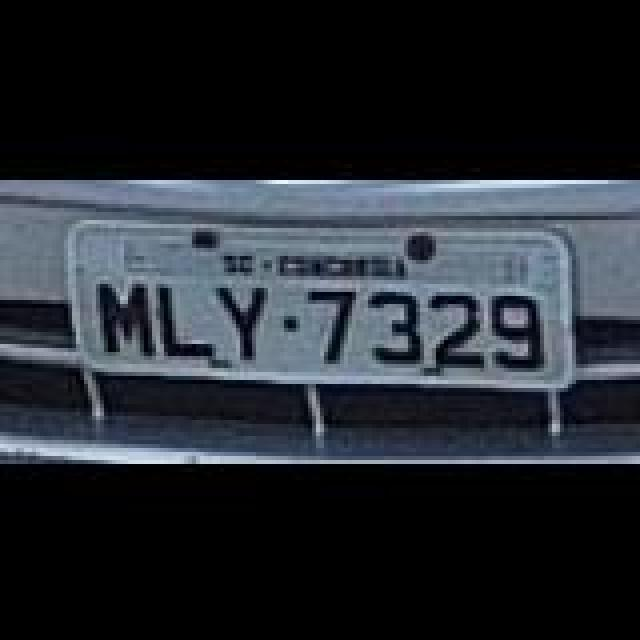2: (426, 288, 494, 368)
3: (366, 286, 434, 362)
7: (304, 282, 368, 358)
9: (488, 288, 552, 368)
L: (152, 282, 224, 358)
M: (94, 278, 162, 354)
Y: (212, 280, 276, 360)
